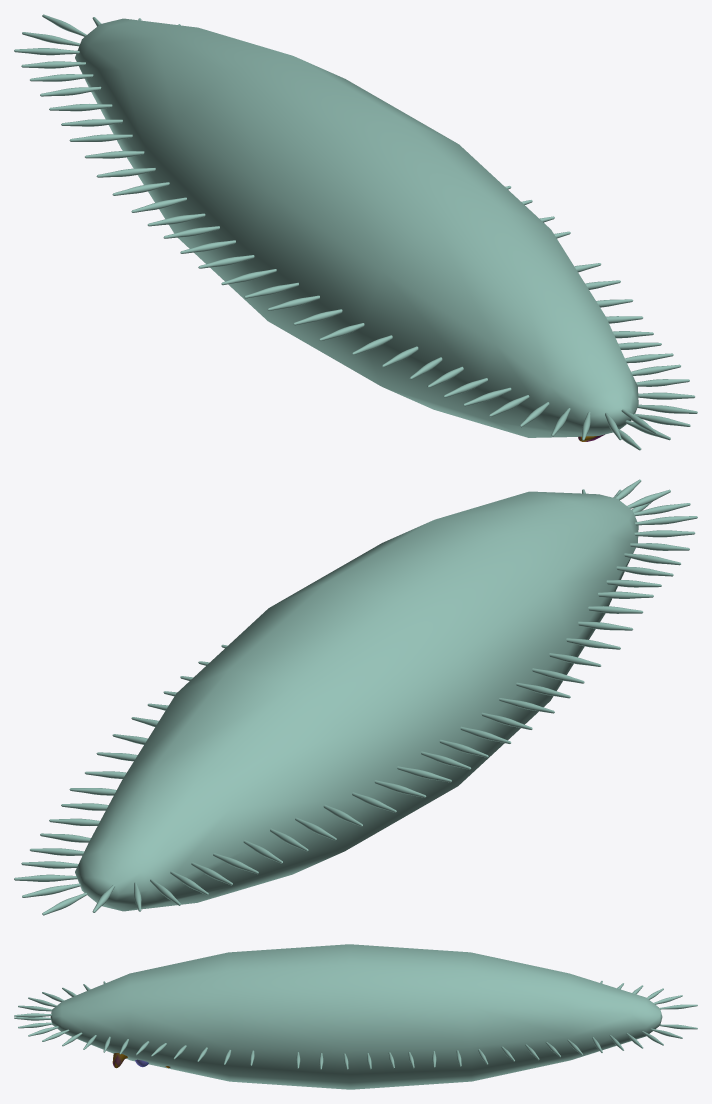
The model's file is Paramecium example.fbx.
The picture shows the model from 3 angles, top to bottom: view 1: azimuth 30°, elevation 25°; view 2: azimuth 150°, elevation 25°; view 3: azimuth 270°, elevation 25°; orthographic projection. The views are drawn at different scales.
Visible parts, largest first — view 1: cytoplasm_001:pCylinder1; view 2: cytoplasm_001:pCylinder1; view 3: cytoplasm_001:pCylinder1.
Boxes of the visible parts, x1,y1,x2,y2 form: cytoplasm_001:pCylinder1: (75,18,638,437); cytoplasm_001:pCylinder1: (75,491,638,911); cytoplasm_001:pCylinder1: (50,944,662,1089).
Bounding box in the file's own units: 6.78 × 4.11 × 20.42.
